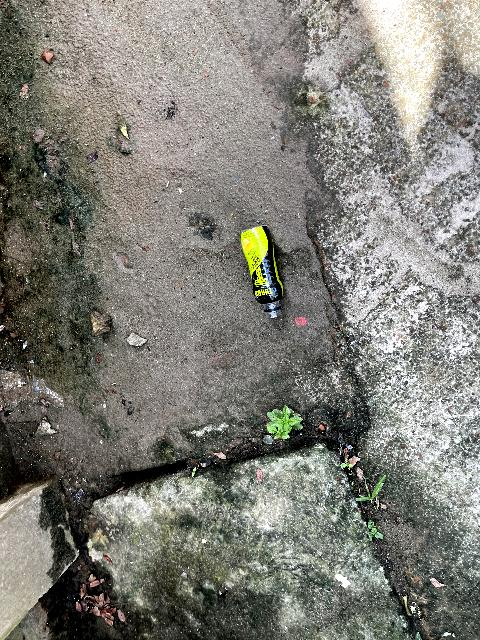bottle: (234, 224, 292, 325)
